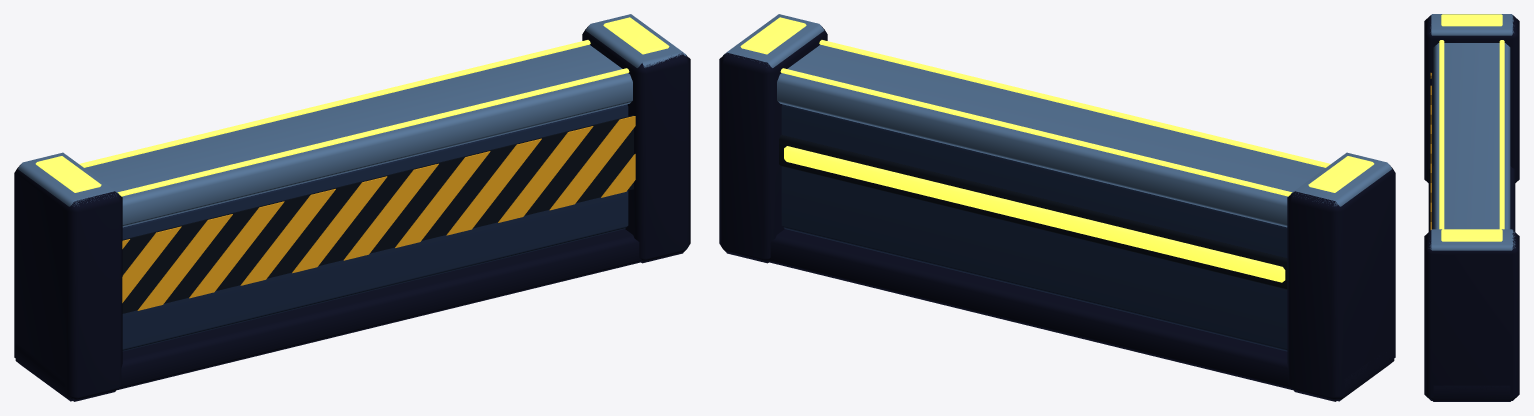
File: NT_Wall_Hazard.fbx
3 renders of one model, left to right at view 1: azimuth 30°, elevation 25°; view 2: azimuth 150°, elevation 25°; view 3: azimuth 270°, elevation 25°, orthographic. The views are drawn at different scales.
Parts seen in each view (by area): view 1: NT_Wall_Hazard__WallMesh; view 2: NT_Wall_Hazard__WallMesh; view 3: NT_Wall_Hazard__WallMesh.
Boxes of the visible parts, box(x1,y1,x2,y2) form: NT_Wall_Hazard__WallMesh: box(14, 14, 690, 401); NT_Wall_Hazard__WallMesh: box(719, 14, 1395, 401); NT_Wall_Hazard__WallMesh: box(1424, 14, 1519, 401).
Bounding box in the file's own units: 4 × 1.26 × 0.68.
